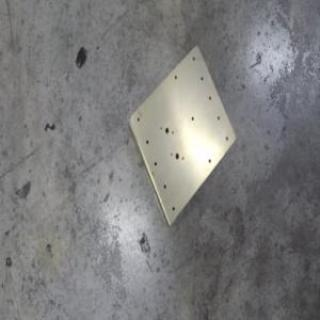MetalSheettrack_idkeyframe: (126, 43, 237, 228)
